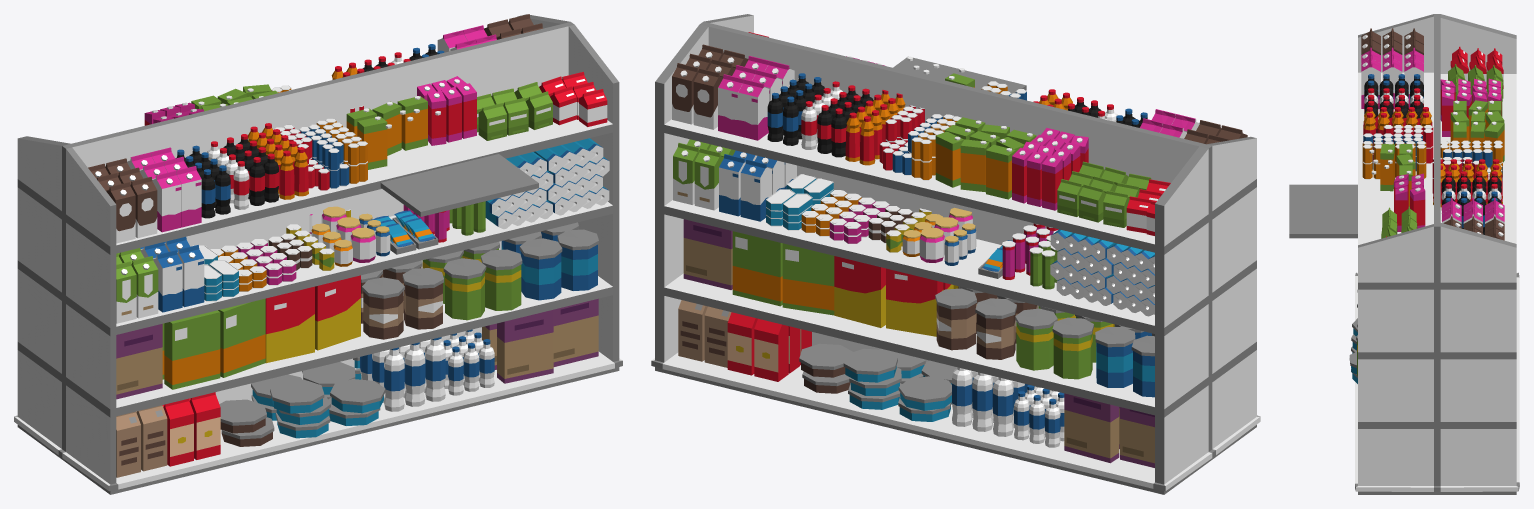
The model's file is SM_Shelf_game_01.fbx.
3 views of the same model, side by side, from view 1: azimuth 30°, elevation 25°; view 2: azimuth 150°, elevation 25°; view 3: azimuth 270°, elevation 25° (orthographic). The views are drawn at different scales.
Visible parts, largest first — view 1: SM_Shelf_game_01; view 2: SM_Shelf_game_01; view 3: SM_Shelf_game_01.
Boxes of the visible parts, x1=… form: SM_Shelf_game_01: x1=14, y1=14, x2=622, y2=494; SM_Shelf_game_01: x1=651, y1=14, x2=1260, y2=494; SM_Shelf_game_01: x1=1289, y1=14, x2=1519, y2=494.
Bounding box in the file's own units: 406 × 236 × 183.
